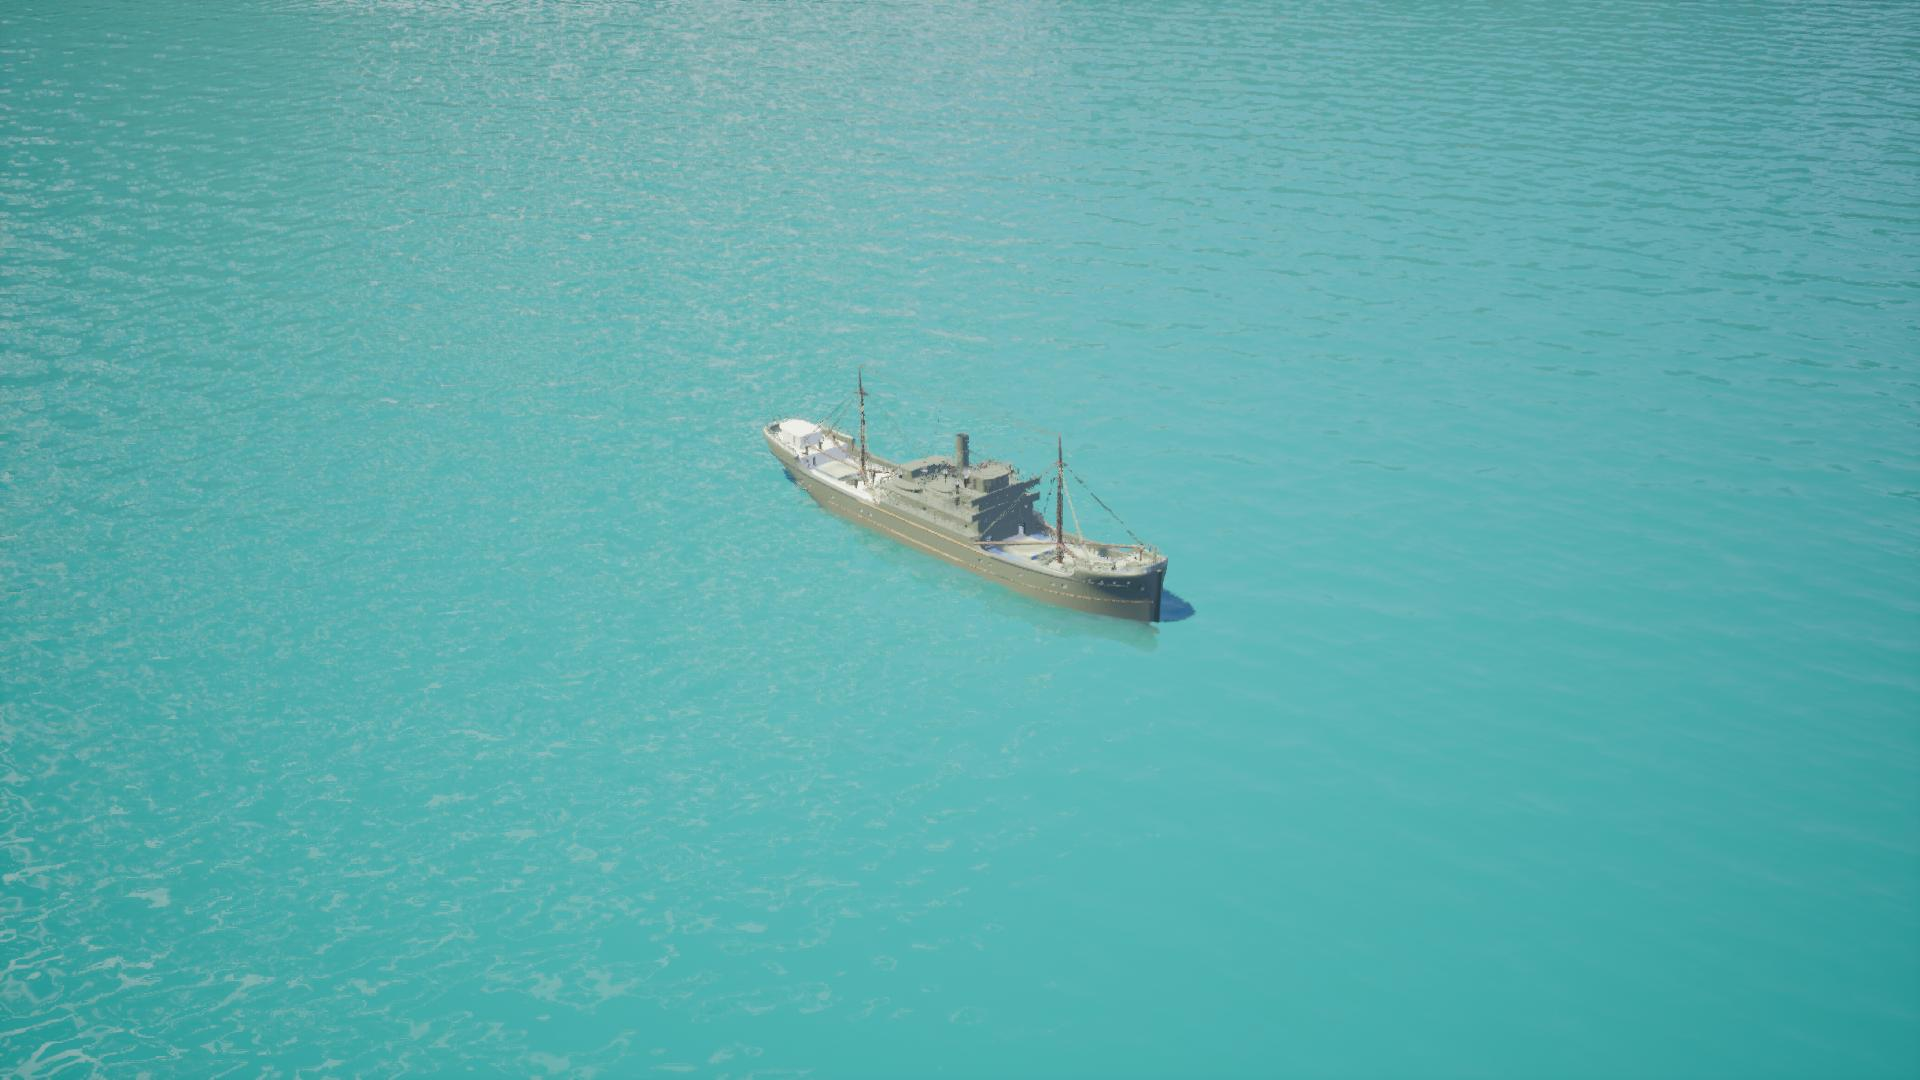Fishing Boat: (762, 413, 1182, 634), (861, 435, 1124, 585)
